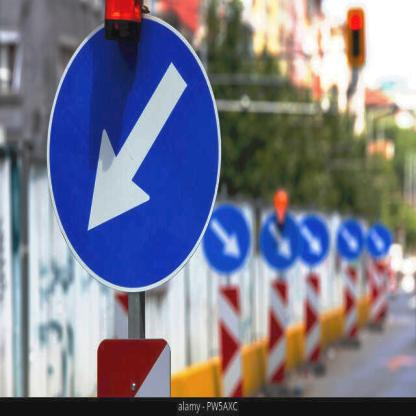Keep left: (44, 14, 218, 294)
Keep right: (203, 203, 251, 270), (258, 200, 298, 270), (293, 210, 333, 267), (334, 216, 366, 259), (365, 225, 395, 259)
